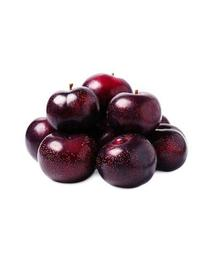cherry: (37, 133, 100, 185), (97, 138, 157, 188), (46, 87, 102, 135), (81, 74, 133, 120), (109, 92, 163, 136), (25, 118, 68, 164), (145, 129, 186, 171)
